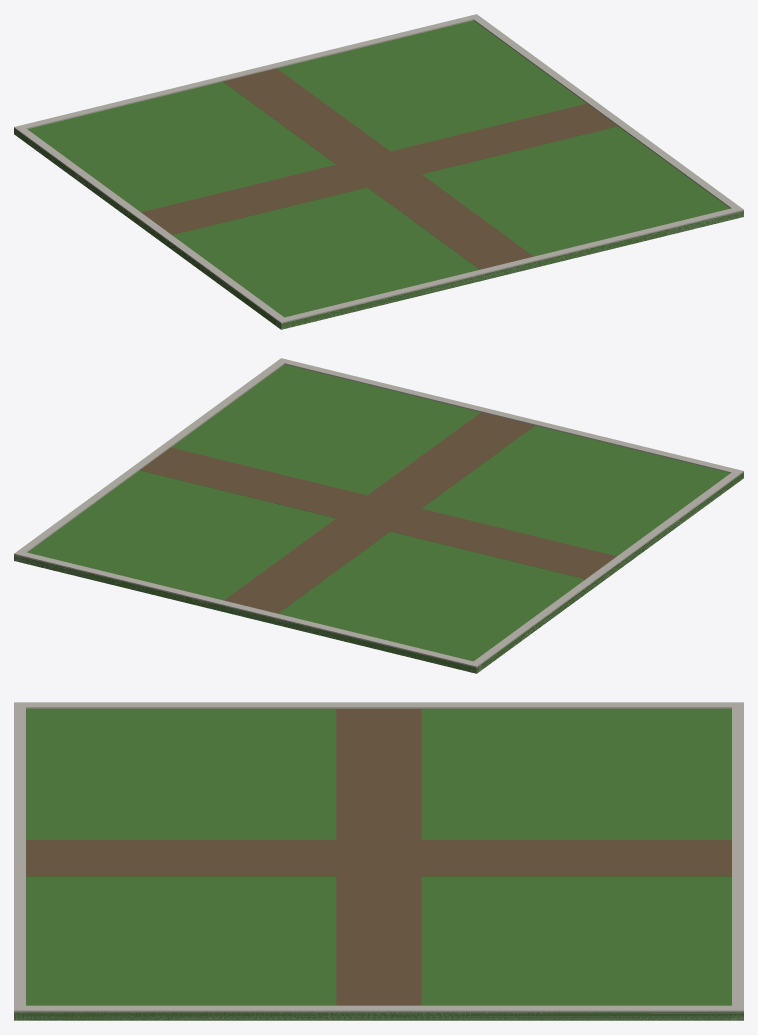
The model's file is park.glb.
The picture shows the model from 3 angles, top to bottom: view 1: azimuth 30°, elevation 25°; view 2: azimuth 150°, elevation 25°; view 3: azimuth 270°, elevation 25°; orthographic projection. The views are drawn at different scales.
Visible parts, largest first — view 1: park; view 2: park; view 3: park.
Part boxes in pixels (x1,y1,x2,y2): park: [14, 14, 743, 329]; park: [14, 358, 743, 673]; park: [14, 702, 743, 1020].
Bounding box in the file's own units: 12 × 0.18 × 12.
